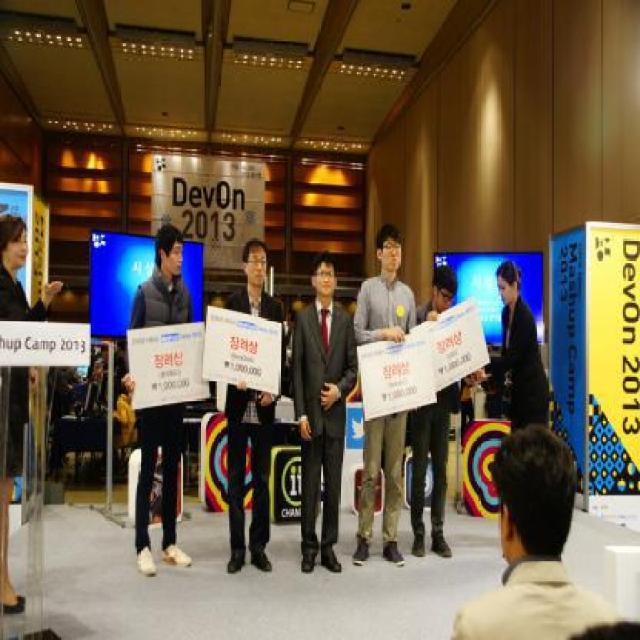Person: (451, 424, 631, 638), (0, 212, 63, 613), (121, 222, 190, 576), (352, 224, 419, 567), (292, 247, 358, 573), (410, 262, 478, 558), (227, 238, 282, 574), (496, 260, 558, 466), (92, 342, 110, 390), (282, 306, 296, 365)
